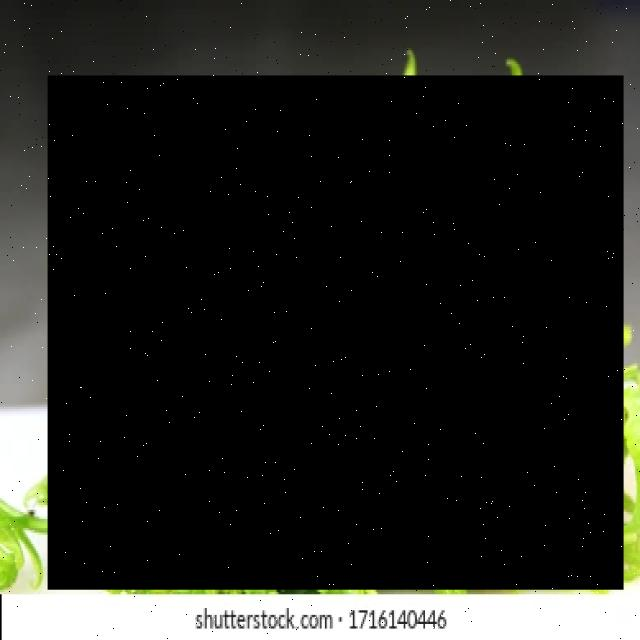Fiddlehead_Ferns: (48, 76, 624, 590)
